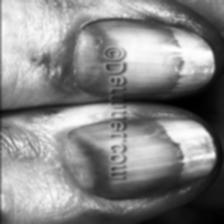Non-Cancerous Skin Condition: (0, 0, 103, 222), (133, 0, 224, 196)
